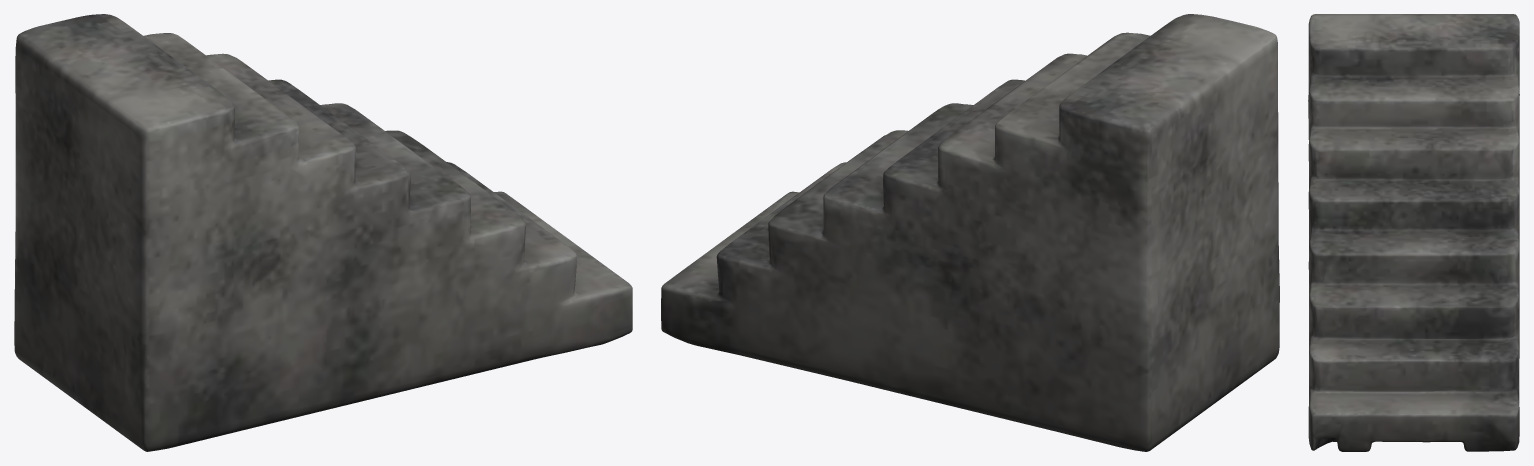
File: worn-granite-straight-staircase-v002.glb
The picture shows the model from 3 angles, left to right: view 1: azimuth 30°, elevation 25°; view 2: azimuth 150°, elevation 25°; view 3: azimuth 270°, elevation 25°; orthographic projection. The views are drawn at different scales.
Parts seen in each view (by area): view 1: worn-granite-straight-staircase; view 2: worn-granite-straight-staircase; view 3: worn-granite-straight-staircase.
Part boxes in pixels (x1,y1,x2,y2): worn-granite-straight-staircase: [14, 14, 632, 451]; worn-granite-straight-staircase: [661, 14, 1279, 451]; worn-granite-straight-staircase: [1308, 14, 1519, 451].
Bounding box in the file's own units: 1.53 × 0.9799 × 0.7309.
1 material, 1 textured.
